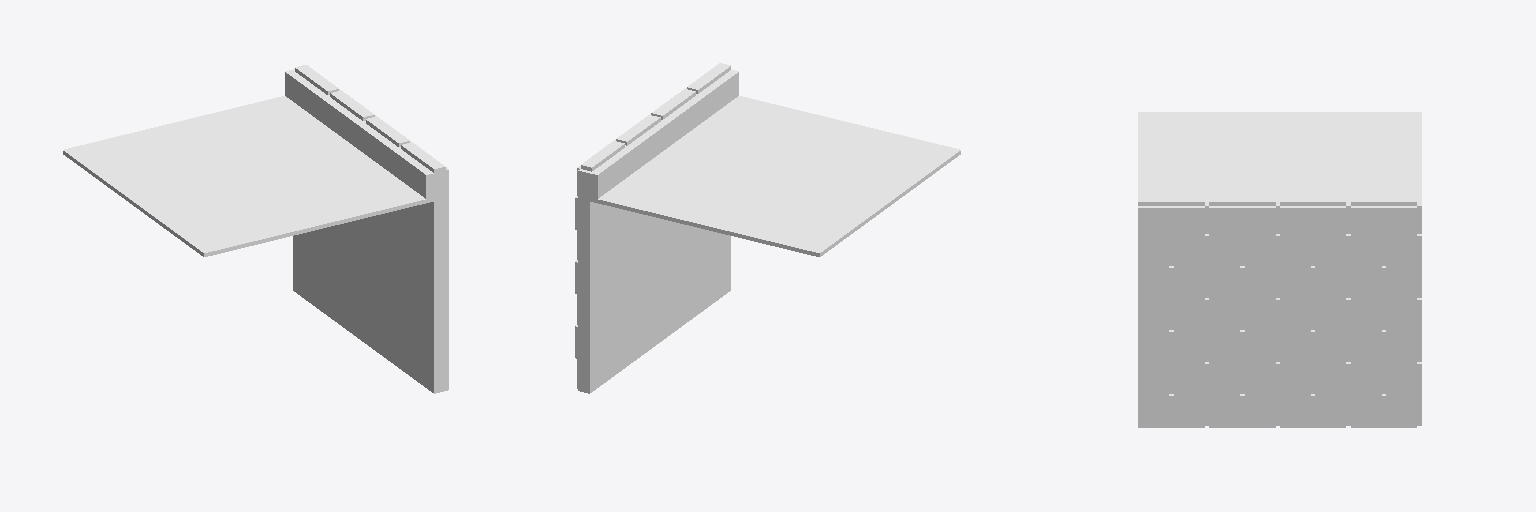
File: dive_bar_wall_t.obj
3 views of the same model, side by side, from view 1: azimuth 30°, elevation 25°; view 2: azimuth 150°, elevation 25°; view 3: azimuth 270°, elevation 25° (orthographic).
Bounding box in the file's own units: 64 × 56 × 64.